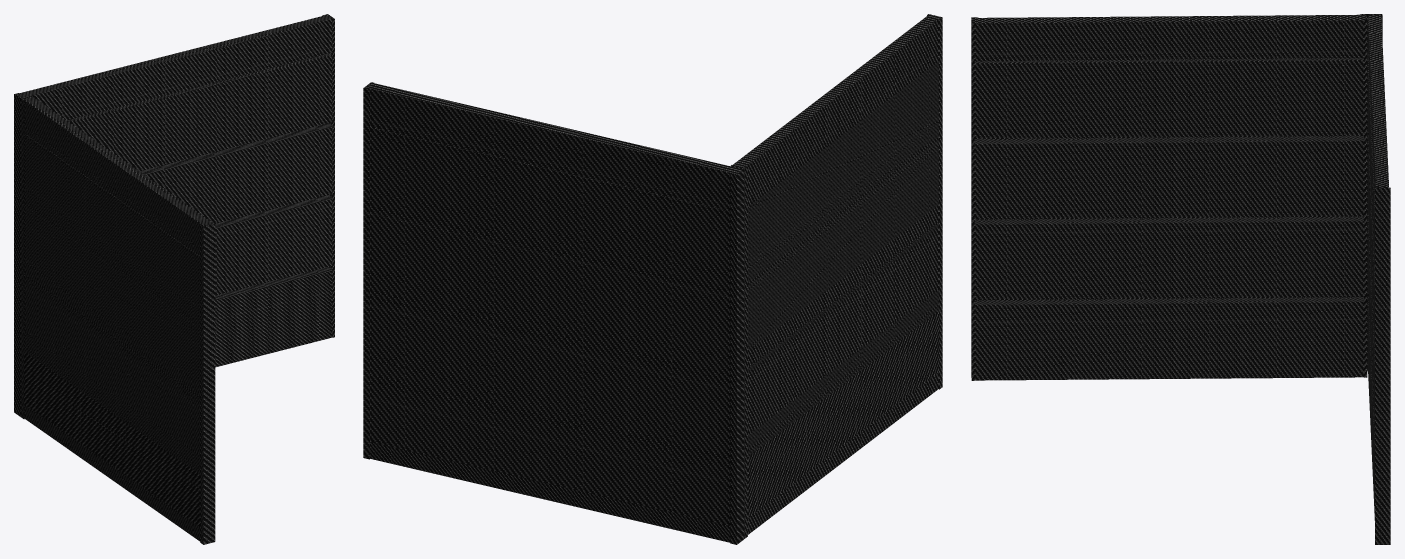
The model's file is cornerBackSlashPro.glb.
3 renders of one model, left to right at view 1: azimuth 30°, elevation 25°; view 2: azimuth 150°, elevation 25°; view 3: azimuth 270°, elevation 25°, orthographic. The views are drawn at different scales.
Parts seen in each view (by area): view 1: cornerBacksplashBlackCarbonFiber; view 2: cornerBacksplashBlackCarbonFiber; view 3: cornerBacksplashBlackCarbonFiber.
Part boxes in pixels (x1,y1,x2,y2): cornerBacksplashBlackCarbonFiber: (14, 14, 334, 544); cornerBacksplashBlackCarbonFiber: (363, 14, 942, 544); cornerBacksplashBlackCarbonFiber: (971, 14, 1390, 544).
Size of the model in its own units: 0.5591 by 0.5351 by 0.5696.
Materials: 1 (1 with a texture image).
